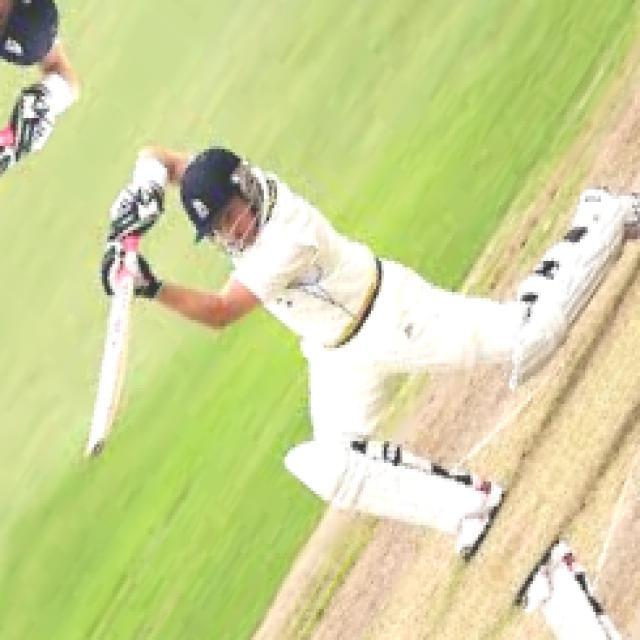bat: (81, 239, 150, 471)
toe: (85, 431, 106, 464)
